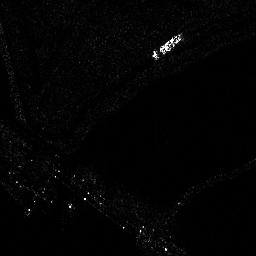ship: (149, 32, 186, 59)
